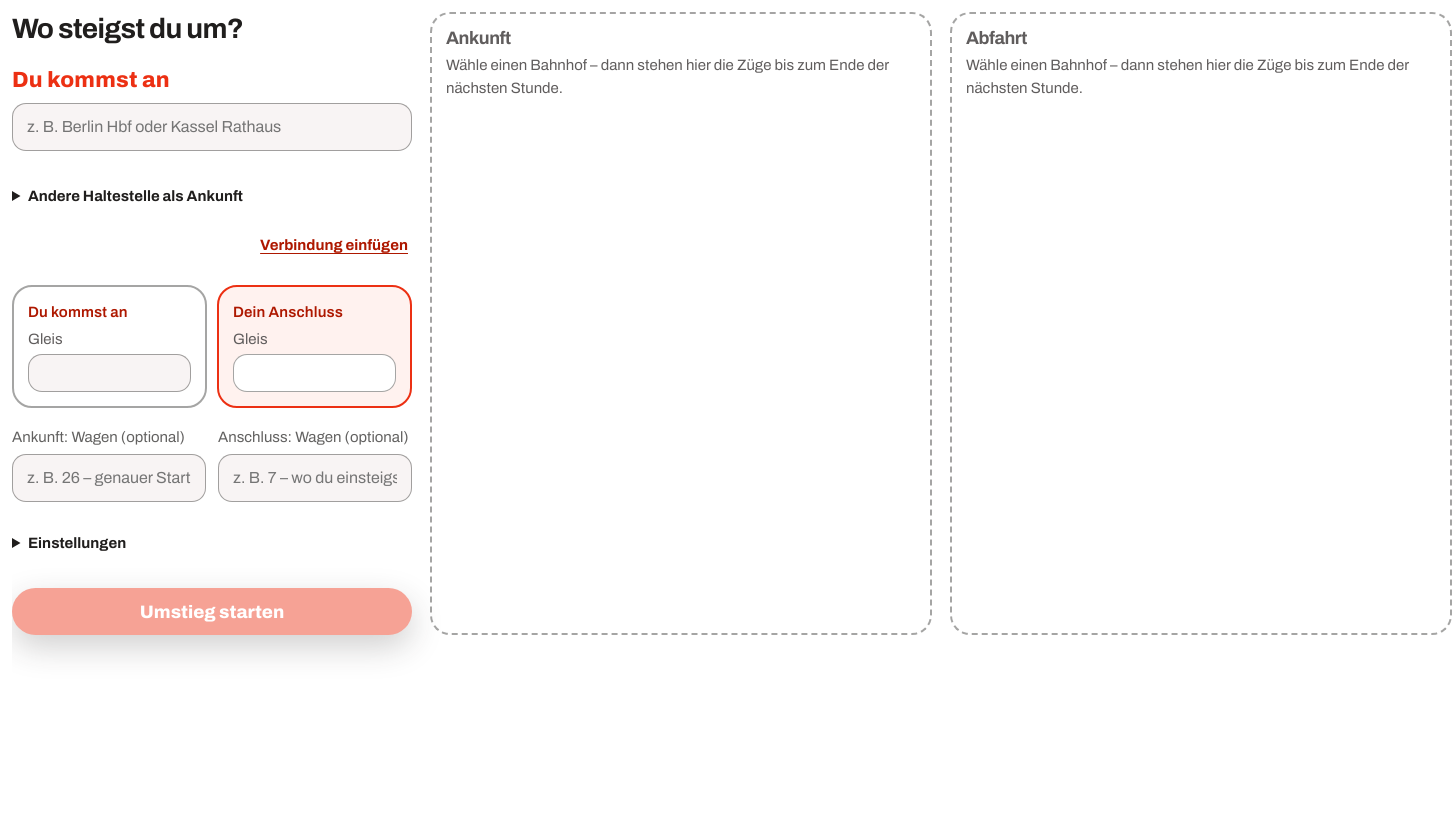
Test: Eingabe: breites Layout › traegt einen angetippten Zug in die Kachel ein
The width and height of the screenshot is (1452, 822).
Type "Ber" into the field named "Ankunft: Bahnhof oder Haltestelle" at (212, 127), box [12,103,412,151]
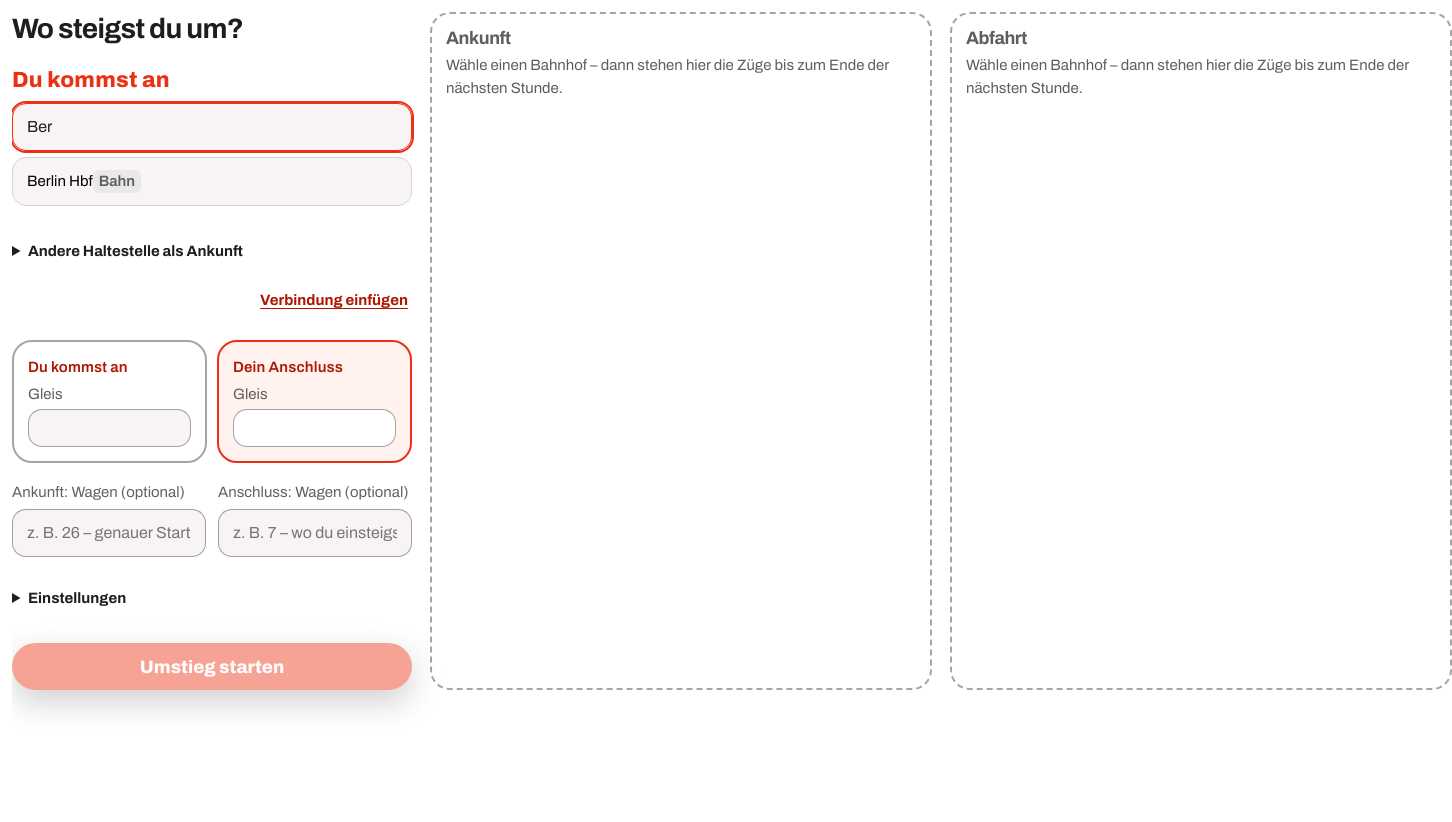
Click the button "Berlin Hbf Bahn" at (60, 181), box [13,158,411,205]
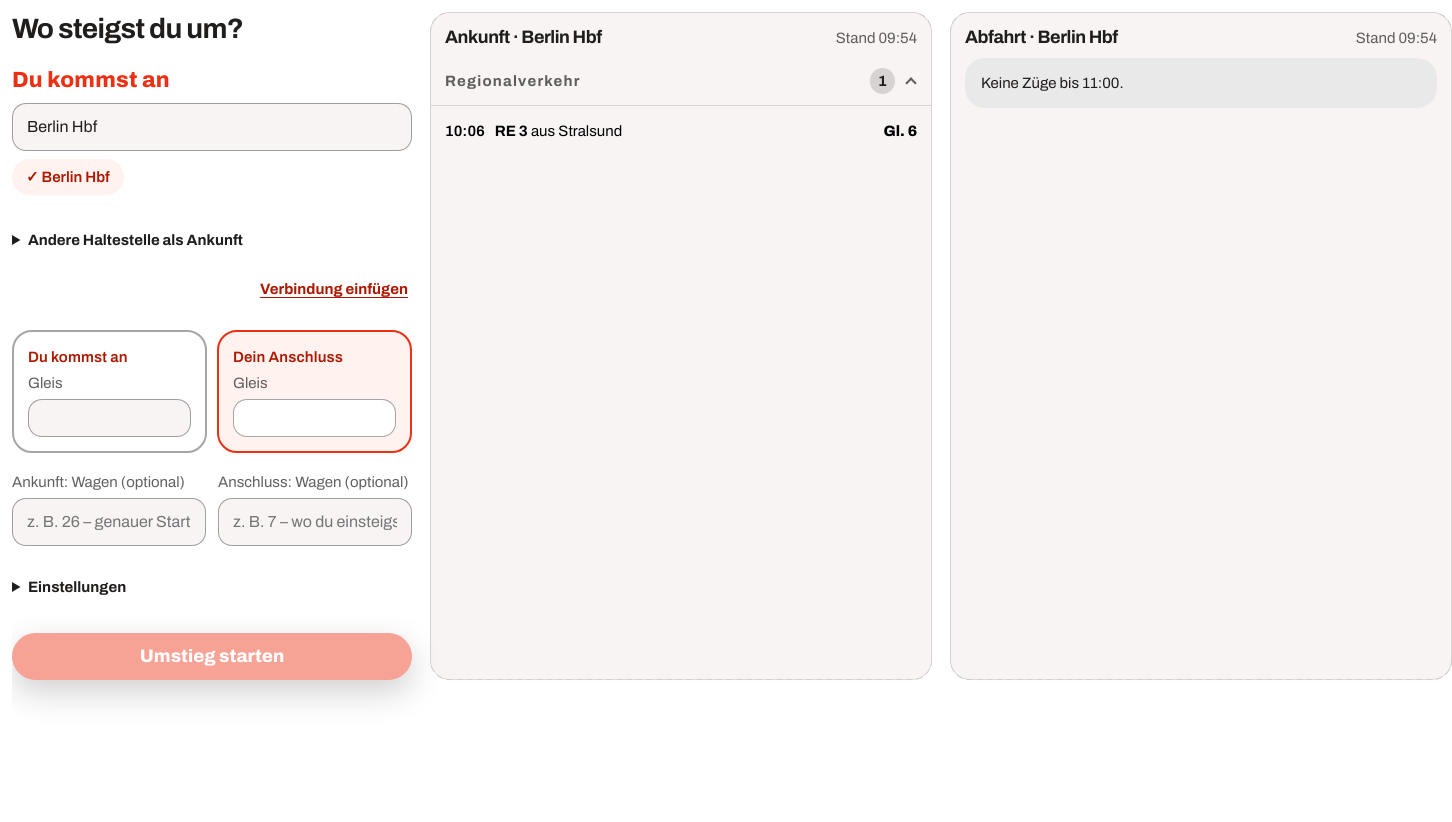
Click the button "10:06 RE 3 aus Stralsund Gl. 6" at (465, 131), box [431,106,931,158]
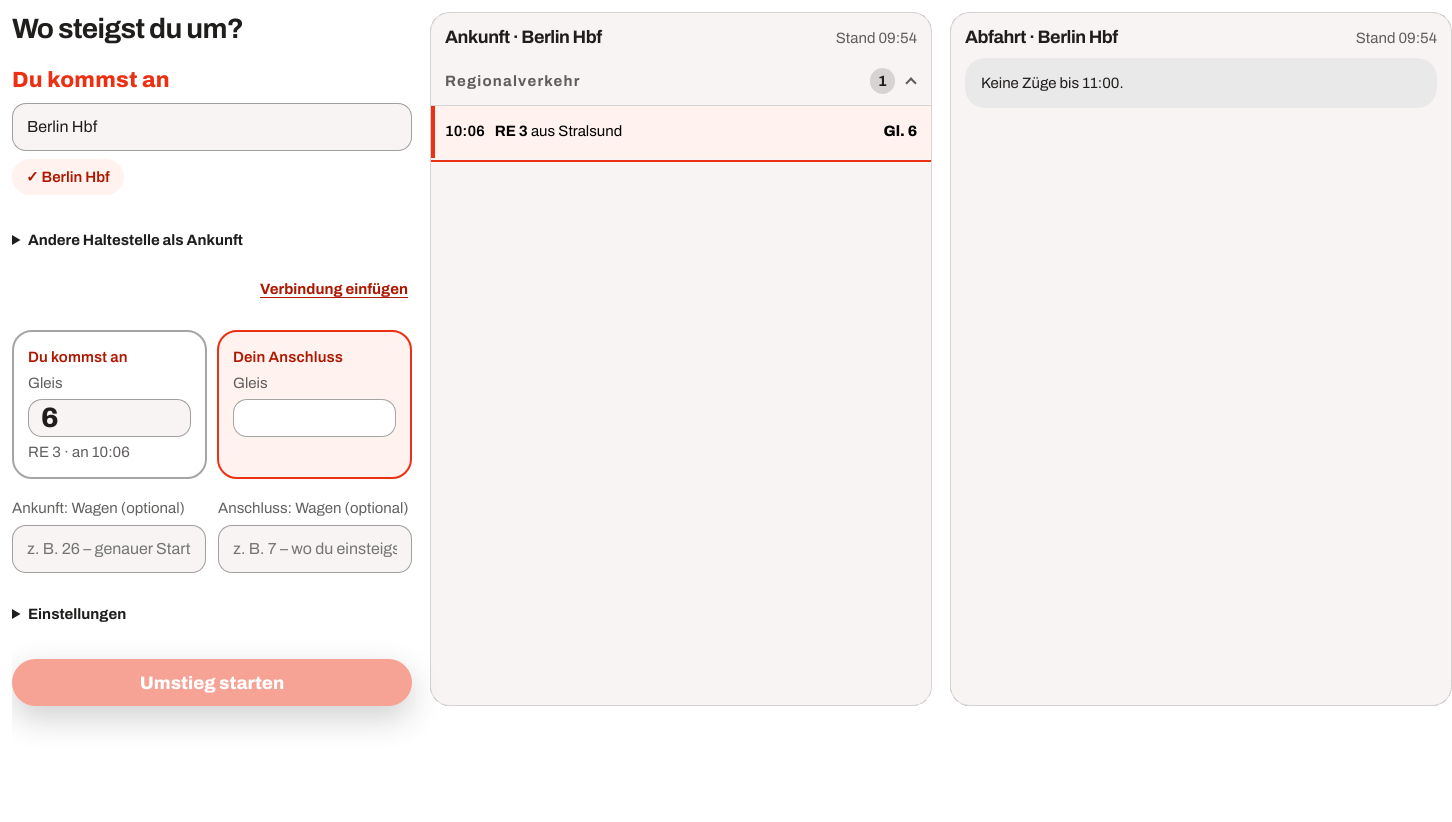
Result: the field named "Ankunft: Gleis" holds "6" at [28,399,191,437]
